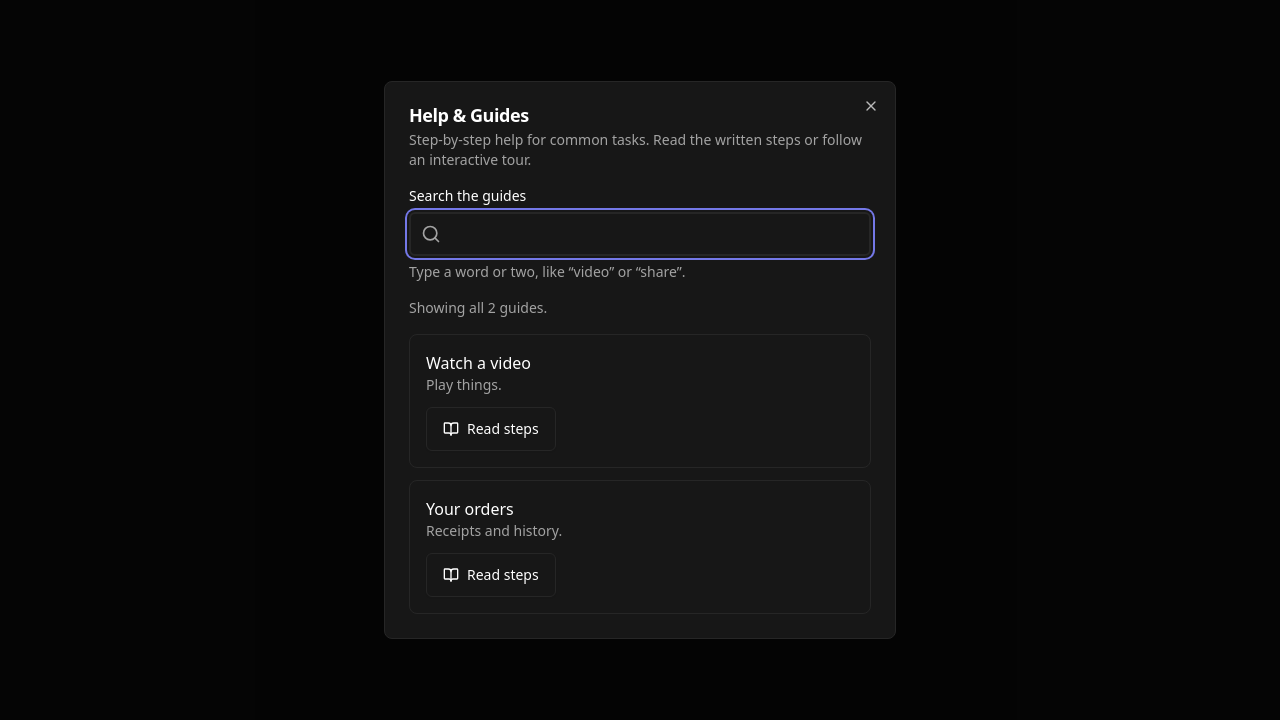
Test: GuidesLauncher search › offers a way back when nothing matches
Type "zzz" into the search field.
click(640, 234); type("zzz")  # box [409,212,871,256]
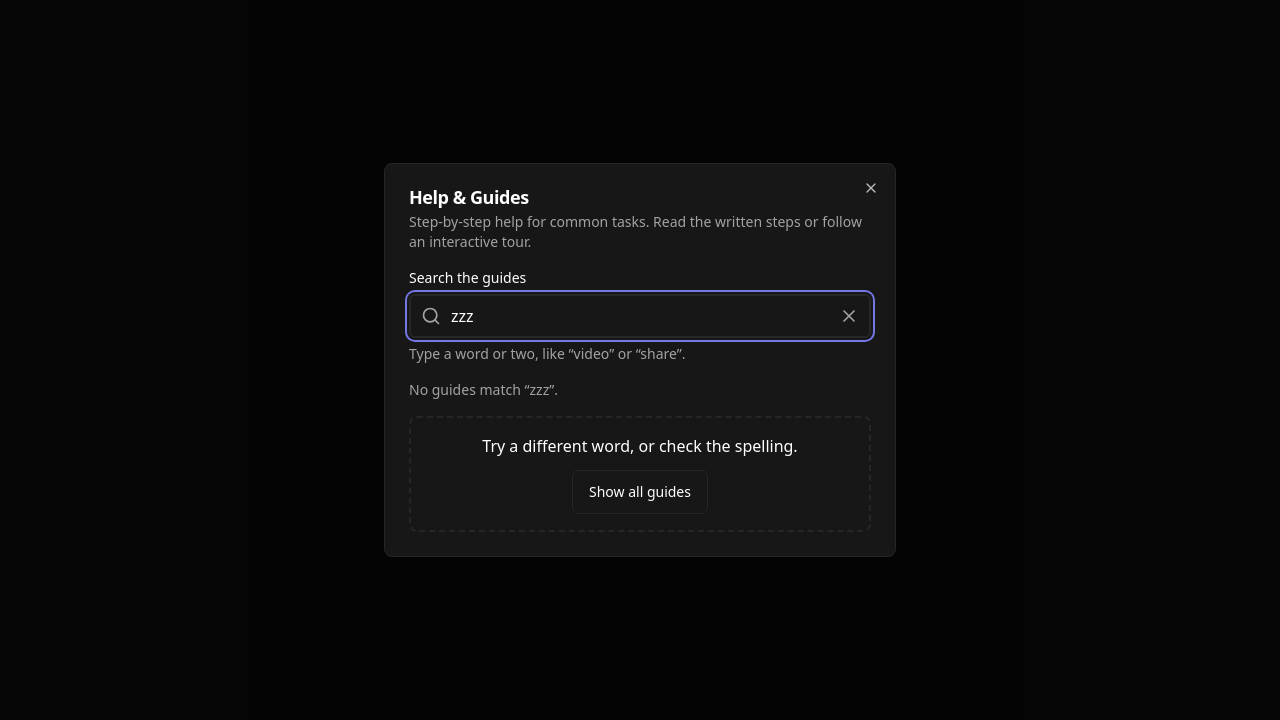
Now the list is gone
Now the text "No guides match “zzz”." is shown, box [409,380,558,399]
Click the button "Show all guides".
click(640, 492)  # box [572,470,708,514]
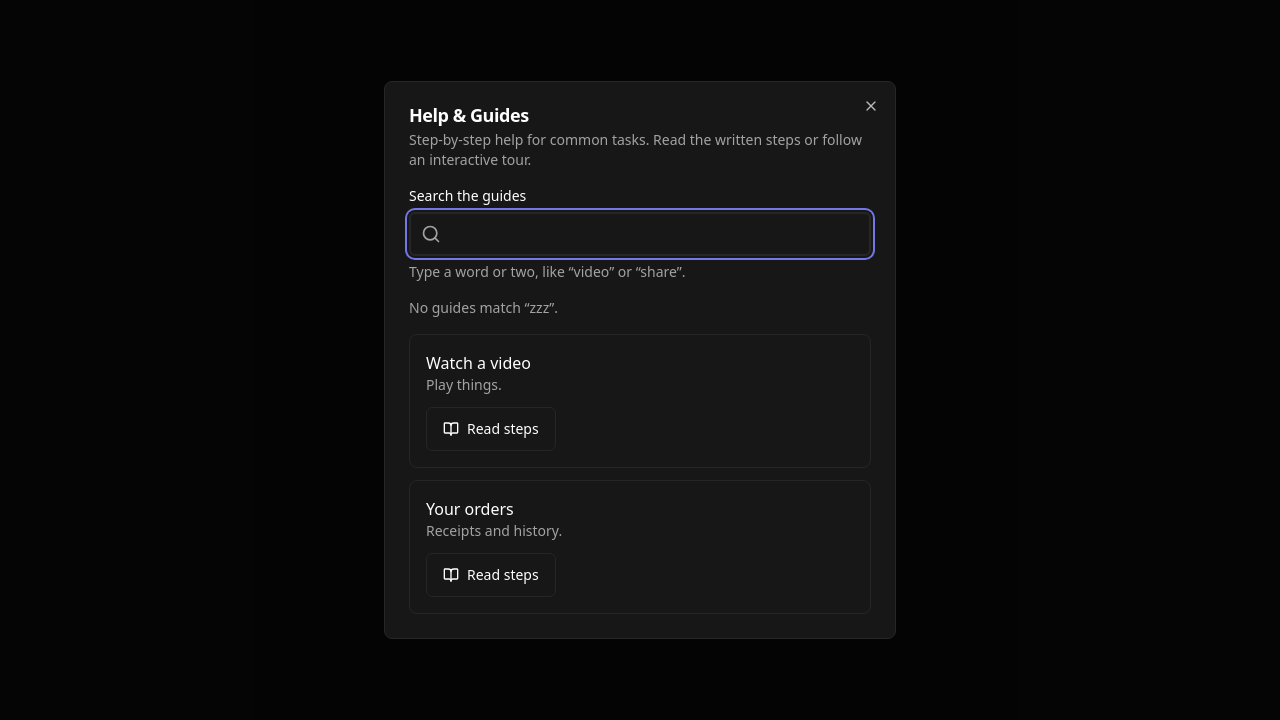
Now the number of list items is 2, box [409,334,871,468]; [409,480,871,614]
Now the search field is empty, box [409,212,871,256]
